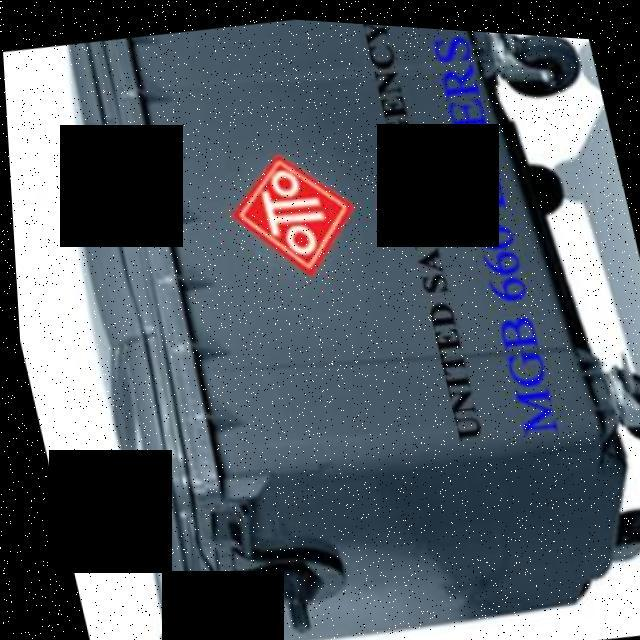bin: (8, 0, 640, 640)
